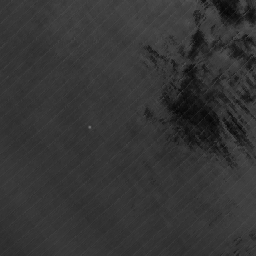Target: (87, 124, 92, 130)
